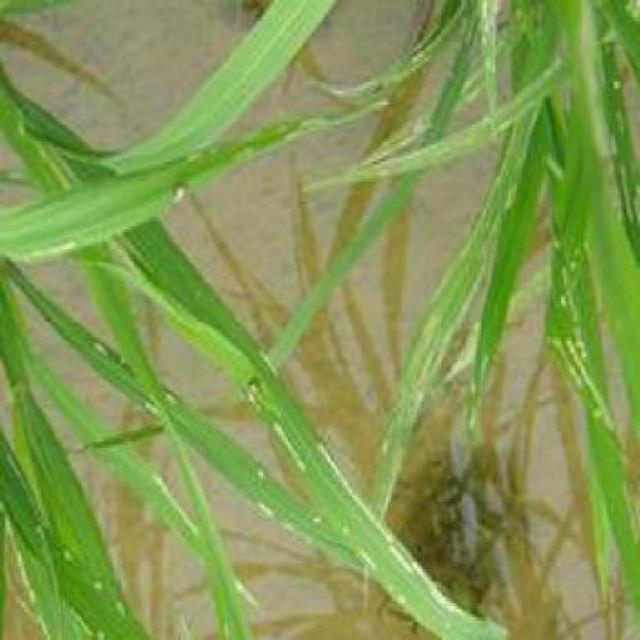rice-bug: (166, 177, 192, 203), (246, 372, 266, 403)
